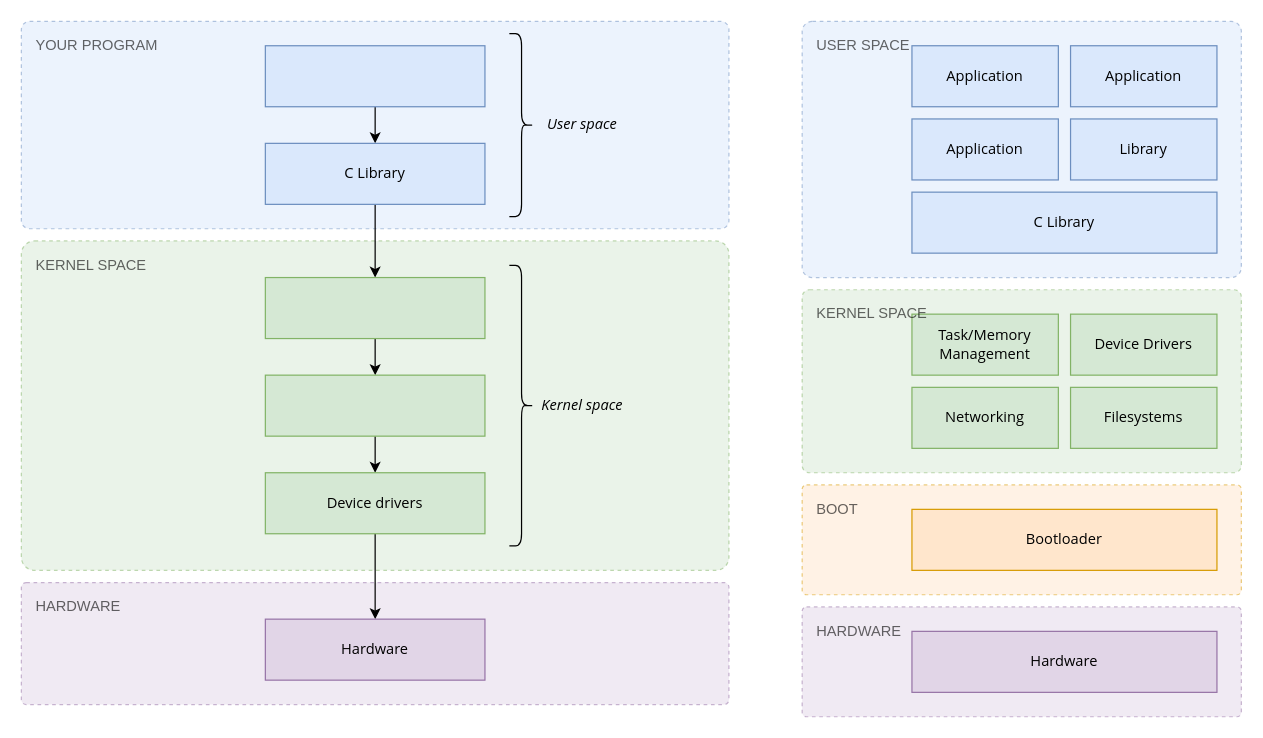
This 1263x738 diagram has some shape labels left out. Each missing label, with the centre of its shape:
"Application code" goes at point (374, 76).
"Generic services" goes at point (374, 405).
"System Interface" goes at point (374, 307).
